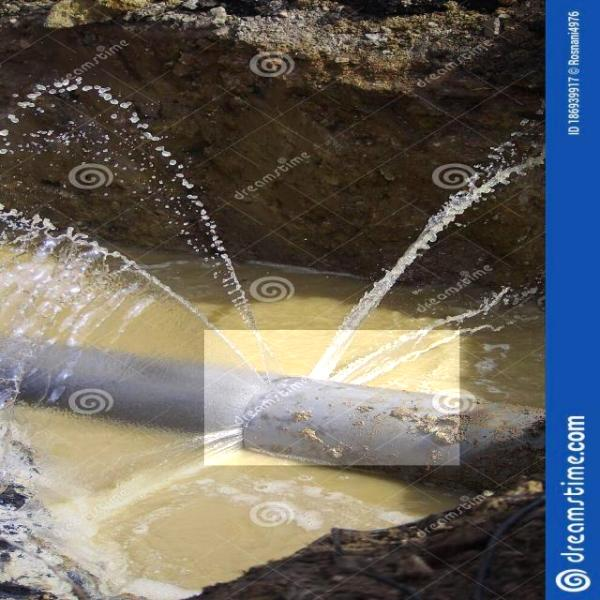water: (204, 330, 460, 466)
